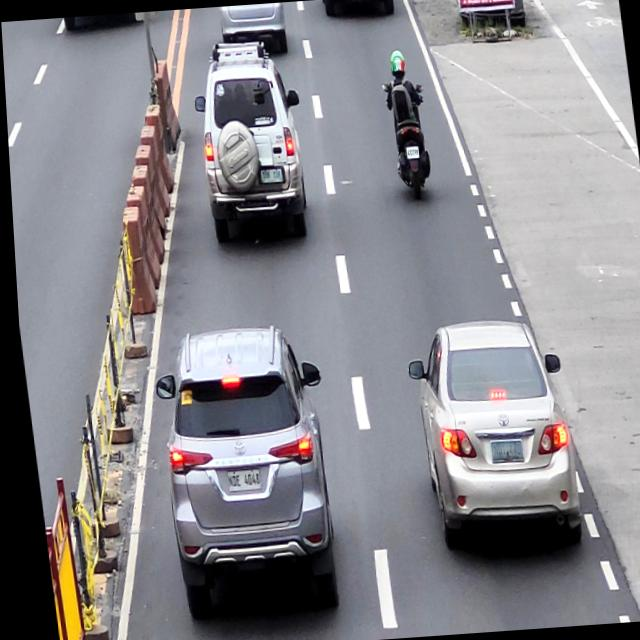Car: (144, 324, 344, 620), (398, 314, 580, 558), (186, 39, 315, 248), (218, 2, 288, 51)
License-Plate: (483, 437, 520, 465), (219, 469, 256, 492), (257, 168, 281, 184), (402, 146, 418, 160)
Motorcycle: (383, 76, 432, 200)
